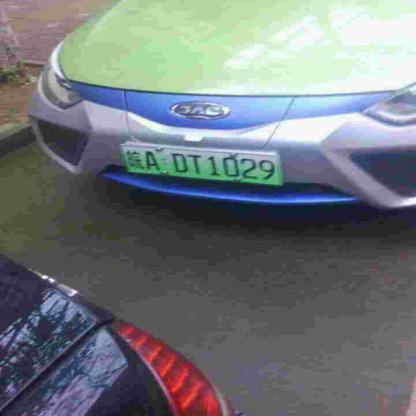lp: (120, 145, 282, 185)
